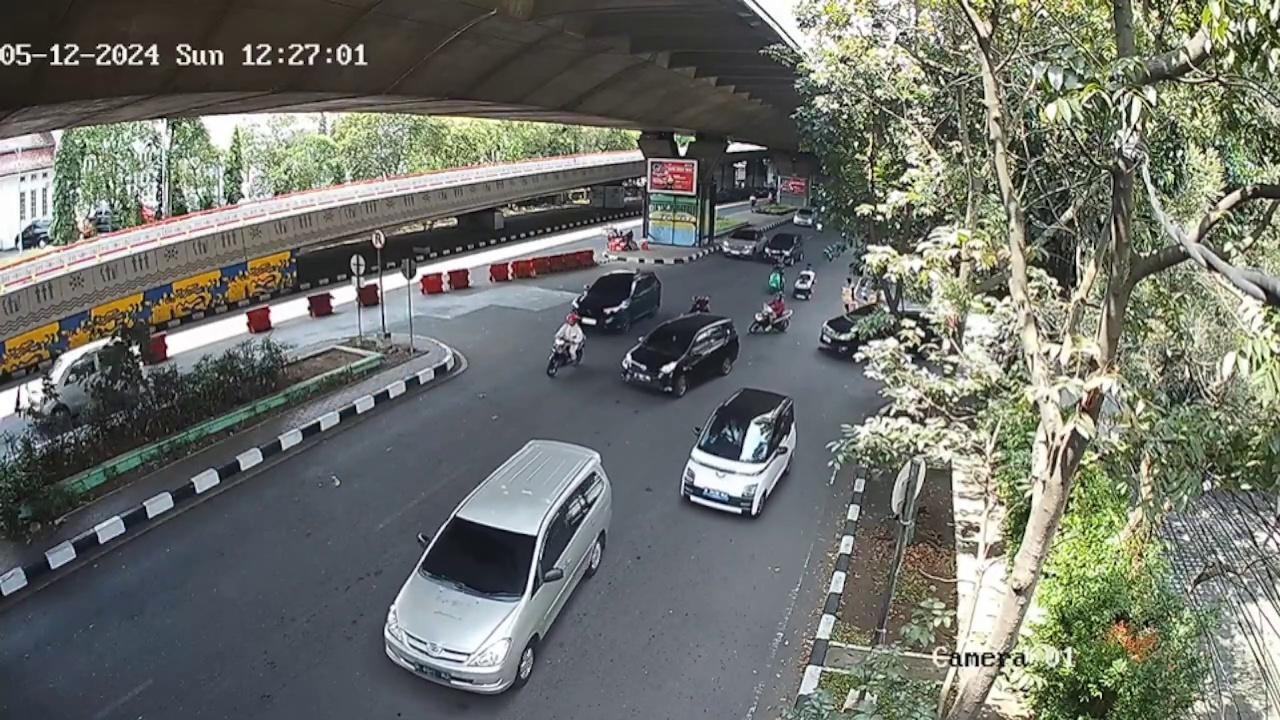pakai: (722, 420, 741, 449)
windshield: (421, 515, 541, 599), (707, 412, 771, 465), (641, 323, 699, 359)
